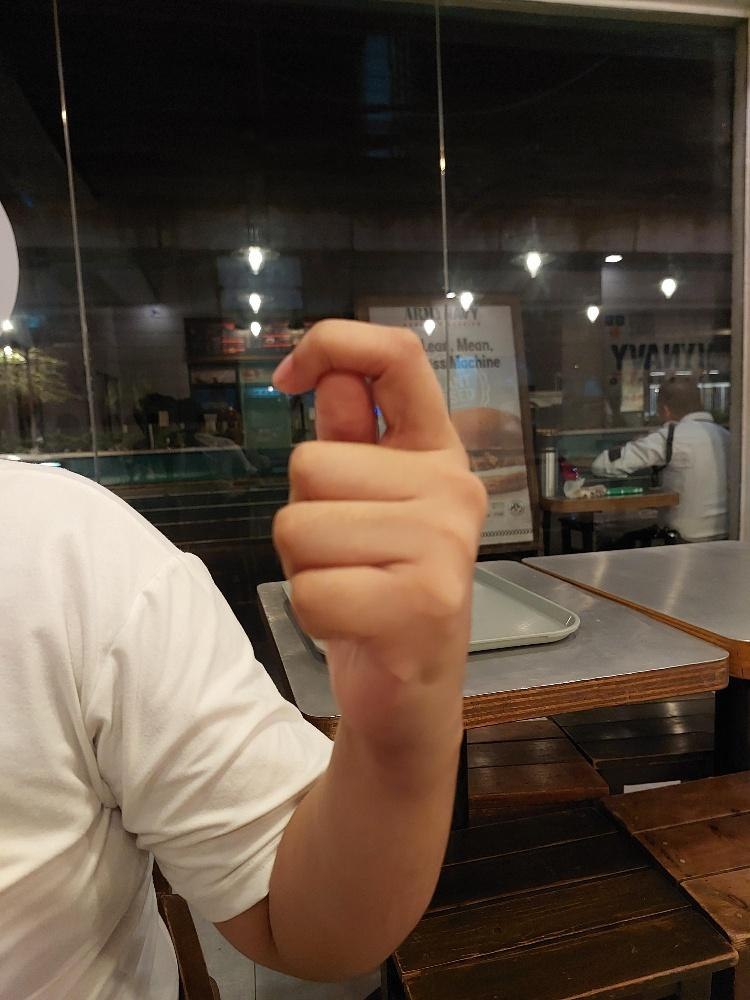t: (267, 316, 490, 748)
